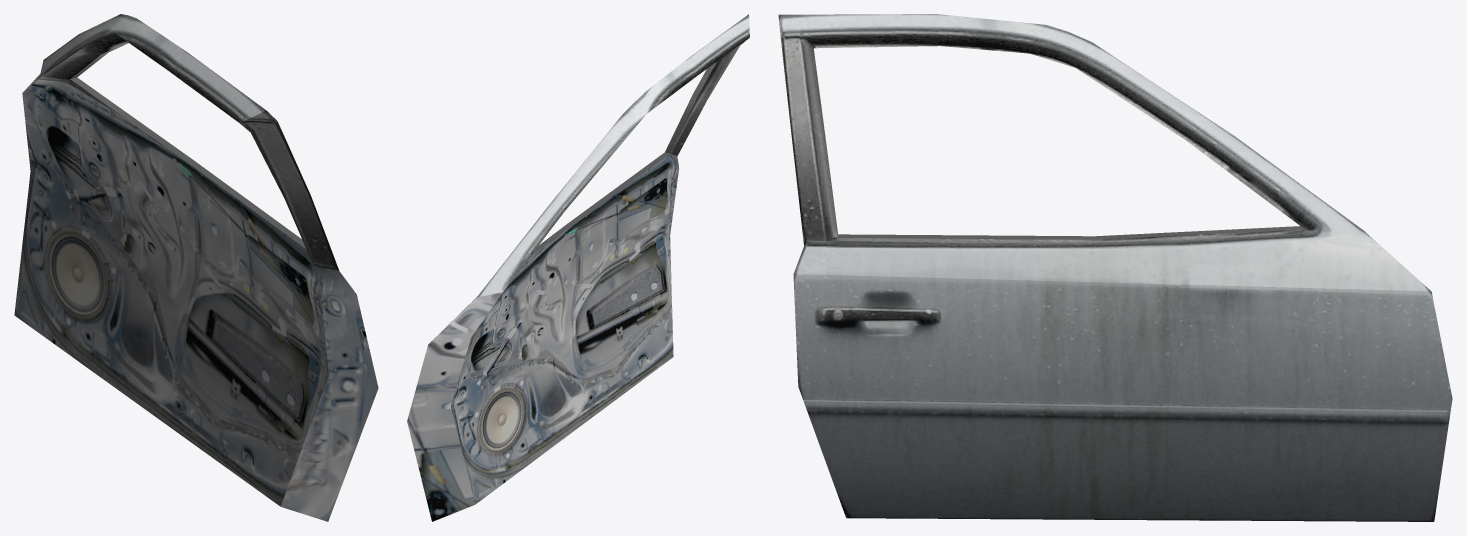
The model's file is SM_WreckCarDoor_A.fbx.
3 renders of one model, left to right at view 1: azimuth 30°, elevation 25°; view 2: azimuth 150°, elevation 25°; view 3: azimuth 270°, elevation 25°, orthographic. The views are drawn at different scales.
Parts seen in each view (by area): view 1: wreck_cardoor; view 2: wreck_cardoor; view 3: wreck_cardoor.
Boxes of the visible parts, x1,y1,x2,y2 form: wreck_cardoor: (14, 14, 378, 521); wreck_cardoor: (407, 14, 749, 521); wreck_cardoor: (778, 14, 1452, 521).
Size of the model in its own units: 28.74 by 93.45 by 124.
